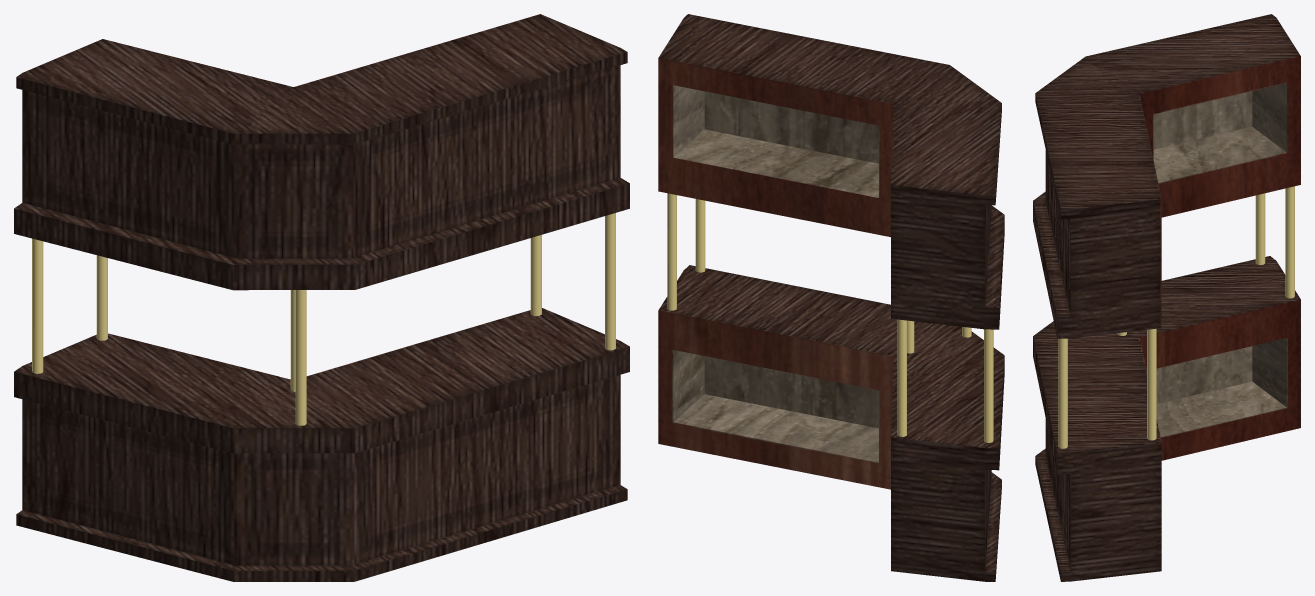
Rendered from BarLow.obj.
The picture shows the model from 3 angles, left to right: view 1: azimuth 30°, elevation 25°; view 2: azimuth 150°, elevation 25°; view 3: azimuth 270°, elevation 25°; orthographic projection. The views are drawn at different scales.
Visible parts, largest first — view 1: pCylinder9; view 2: pCylinder9; view 3: pCylinder9.
Part boxes in pixels (x1,y1,x2,y2): pCylinder9: (14,14,629,581); pCylinder9: (658,14,1004,581); pCylinder9: (1033,14,1300,581).
Bounding box in the file's own units: 47.31 × 41.55 × 27.1.
Materials: 1 (1 with a texture image).
